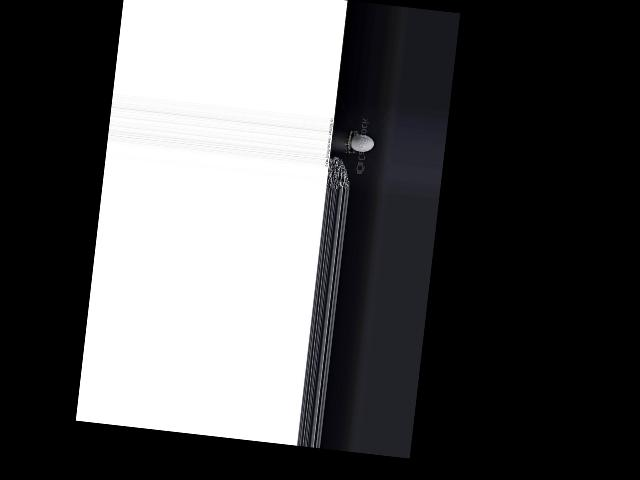egg: (349, 133, 374, 153)
